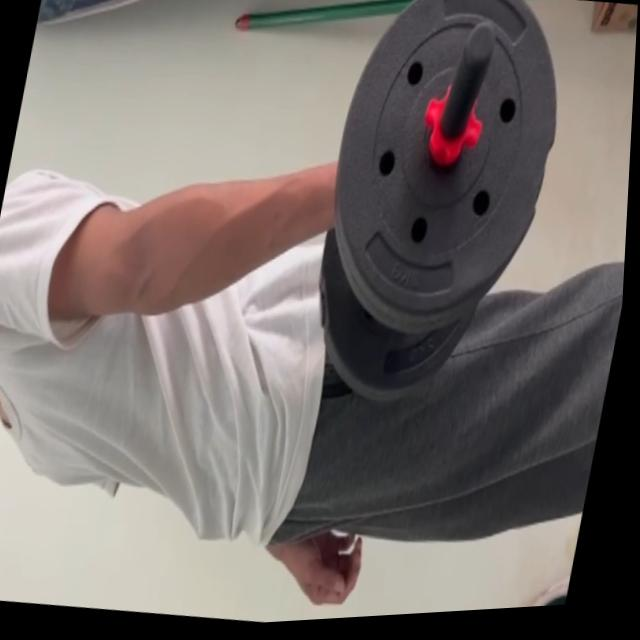dumbbell: (290, 0, 580, 428)
